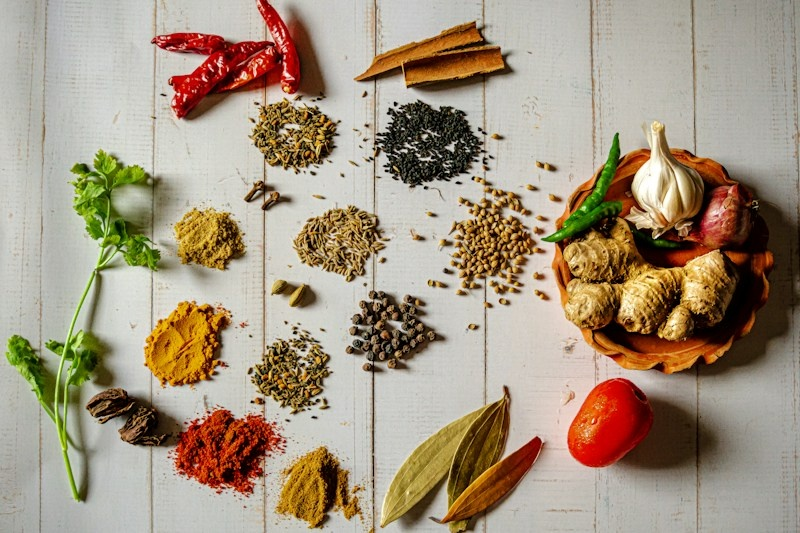banana peel: (630, 121, 704, 230)
